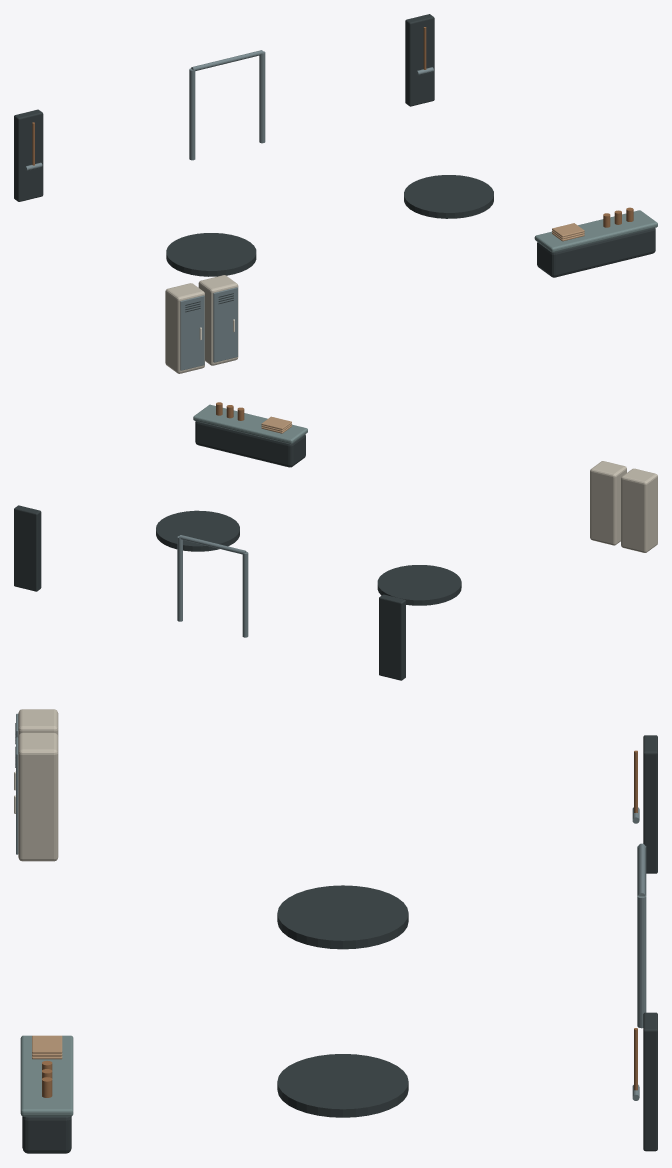
The model's file is gym-interior.glb.
The picture shows the model from 3 angles, top to bottom: view 1: azimuth 30°, elevation 25°; view 2: azimuth 150°, elevation 25°; view 3: azimuth 270°, elevation 25°; orthographic projection. The views are drawn at different scales.
Parts seen in each view (by area): view 1: Furniture_Graphite, Furniture_Steel, Furniture_Ivory, Furniture_Fabric, Furniture_Copper; view 2: Furniture_Graphite, Furniture_Ivory, Furniture_Fabric, Furniture_Steel; view 3: Furniture_Graphite, Furniture_Ivory, Furniture_Fabric, Furniture_Steel, Furniture_Copper, Furniture_Linen.
Boxes of the visible parts, x1,y1,x2,y2 form: Furniture_Graphite: (14,14,655,312); Furniture_Steel: (24,50,433,370); Furniture_Ivory: (165,275,238,373); Furniture_Fabric: (534,210,657,252); Furniture_Copper: (32,27,633,227); Furniture_Graphite: (14,421,461,680); Furniture_Ivory: (590,461,657,552); Furniture_Fabric: (193,404,307,444); Furniture_Steel: (177,535,248,637); Furniture_Graphite: (15,723,657,1153); Furniture_Ivory: (18,709,58,861); Furniture_Fabric: (20,1035,73,1116); Furniture_Steel: (16,713,646,1100); Furniture_Copper: (42,750,637,1097); Furniture_Linen: (32,1035,62,1059).
Size of the model in its own units: 13.77 by 2.6 by 10.99.
